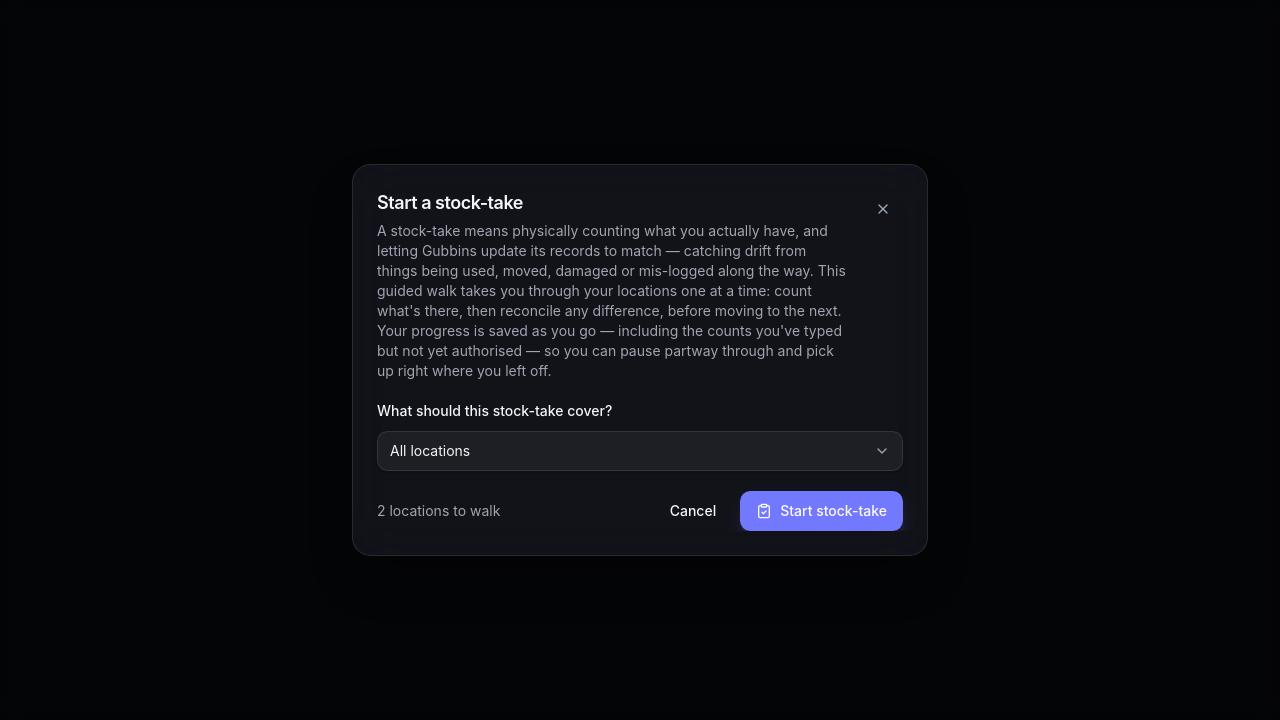
Test: AuditDayDialog — guided walk › walks every location, reconciling one, and shows a final summary
Note: Start the walk over all (2) locations.
Click the button with test id "audit-start".
click(822, 511)  # box top-left (740, 491), bottom-right (903, 531)
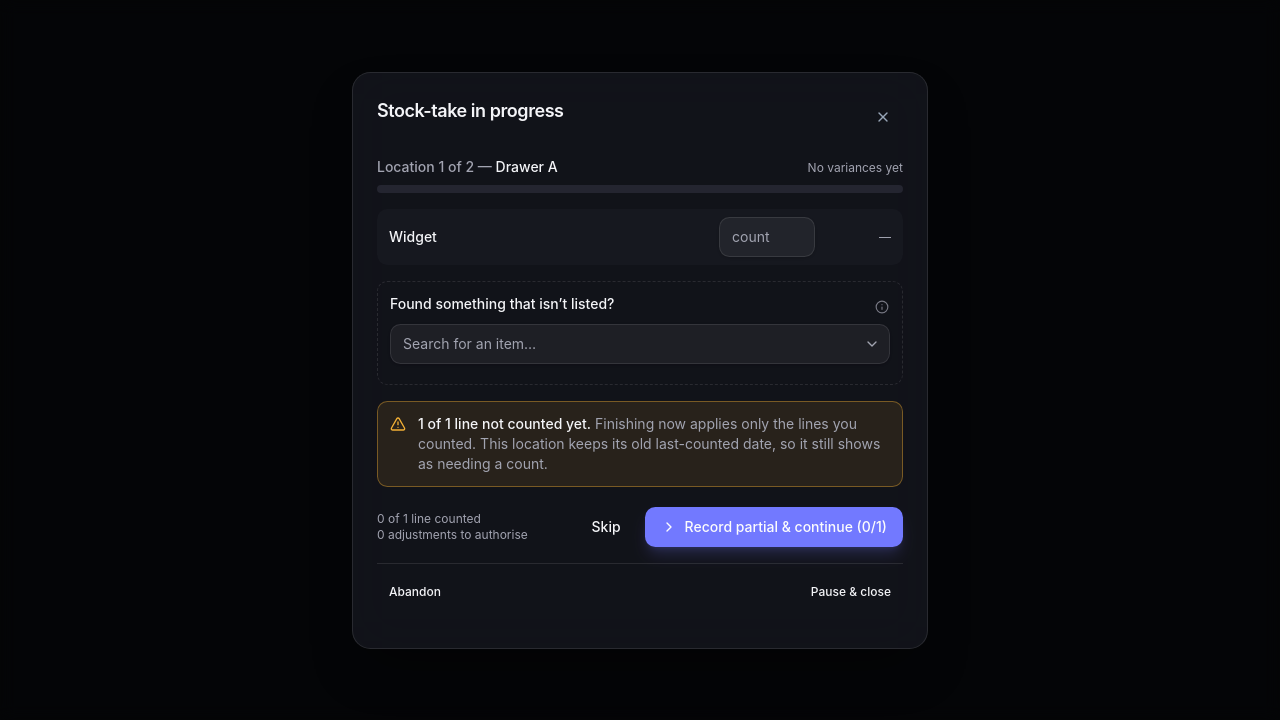
expect the element with test id "audit-step-heading" shows "Drawer A": met, box top-left (496, 158), bottom-right (558, 174)
expect the element with test id "audit-step-heading" shows "Location 1 of 2": met, box top-left (377, 156), bottom-right (558, 176)
Type "8" into the number field with placeholder "count".
click(767, 236); type("8")  # box top-left (719, 216), bottom-right (815, 256)
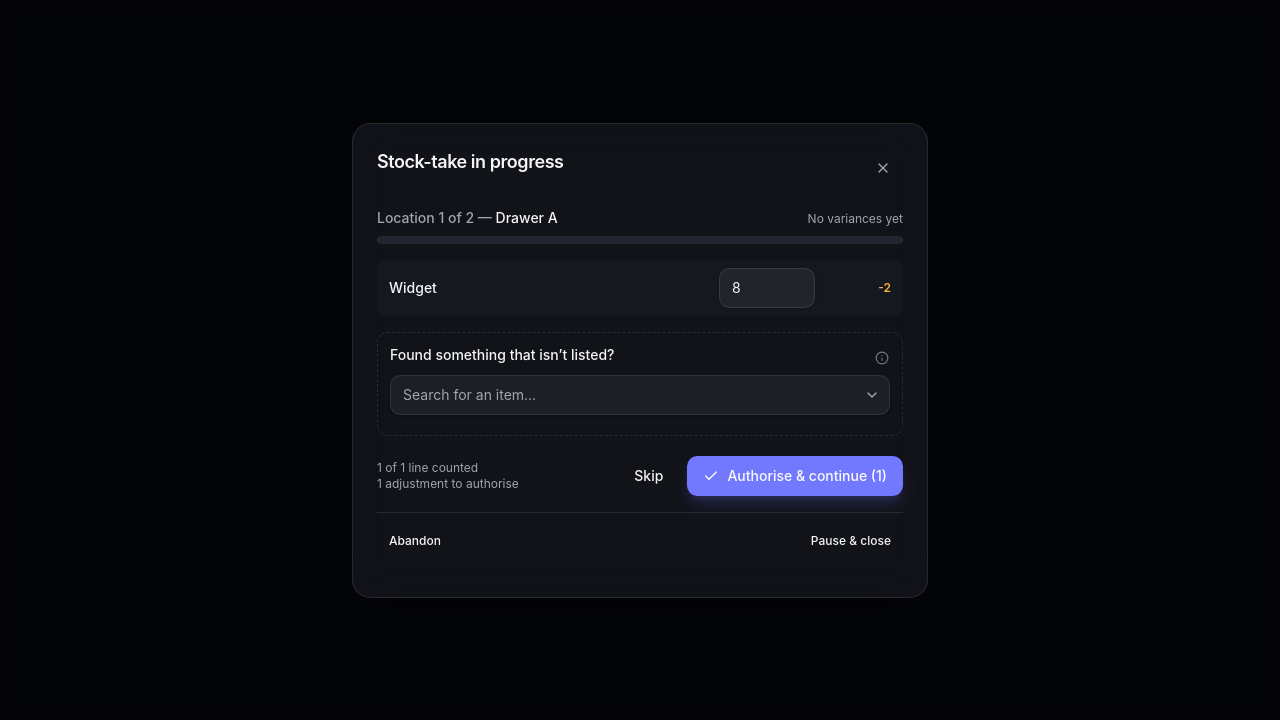
Click the button with test id "audit-authorise-continue".
click(795, 476)  # box top-left (687, 456), bottom-right (903, 496)
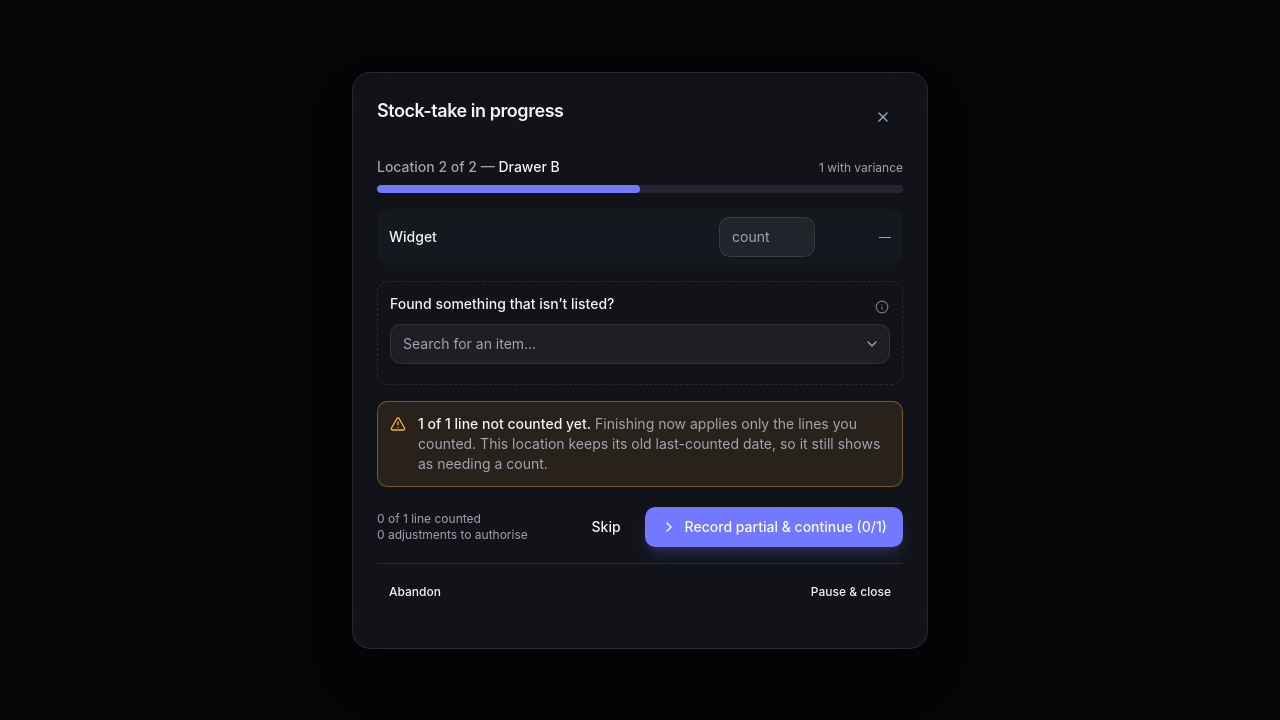
expect the element with test id "audit-step-heading" shows "Drawer B": met, box top-left (498, 158), bottom-right (560, 174)
expect the element with test id "audit-step-heading" shows "Location 2 of 2": met, box top-left (377, 156), bottom-right (560, 176)
expect the text with test id "audit-variance-tally" reads "1 with variance": met, box top-left (819, 160), bottom-right (903, 174)
Type "10" into the number field with placeholder "count".
click(767, 236); type("10")  # box top-left (719, 216), bottom-right (815, 256)
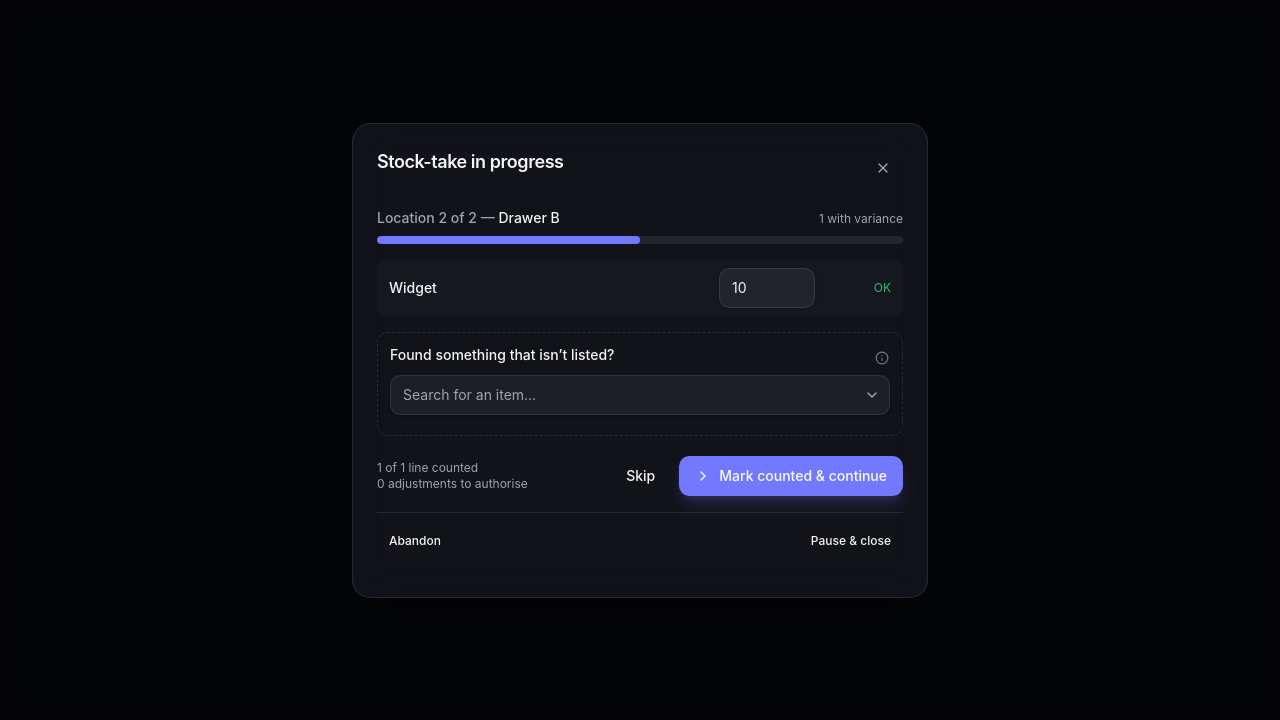
Click the button with test id "audit-continue".
click(791, 476)  # box top-left (679, 456), bottom-right (903, 496)
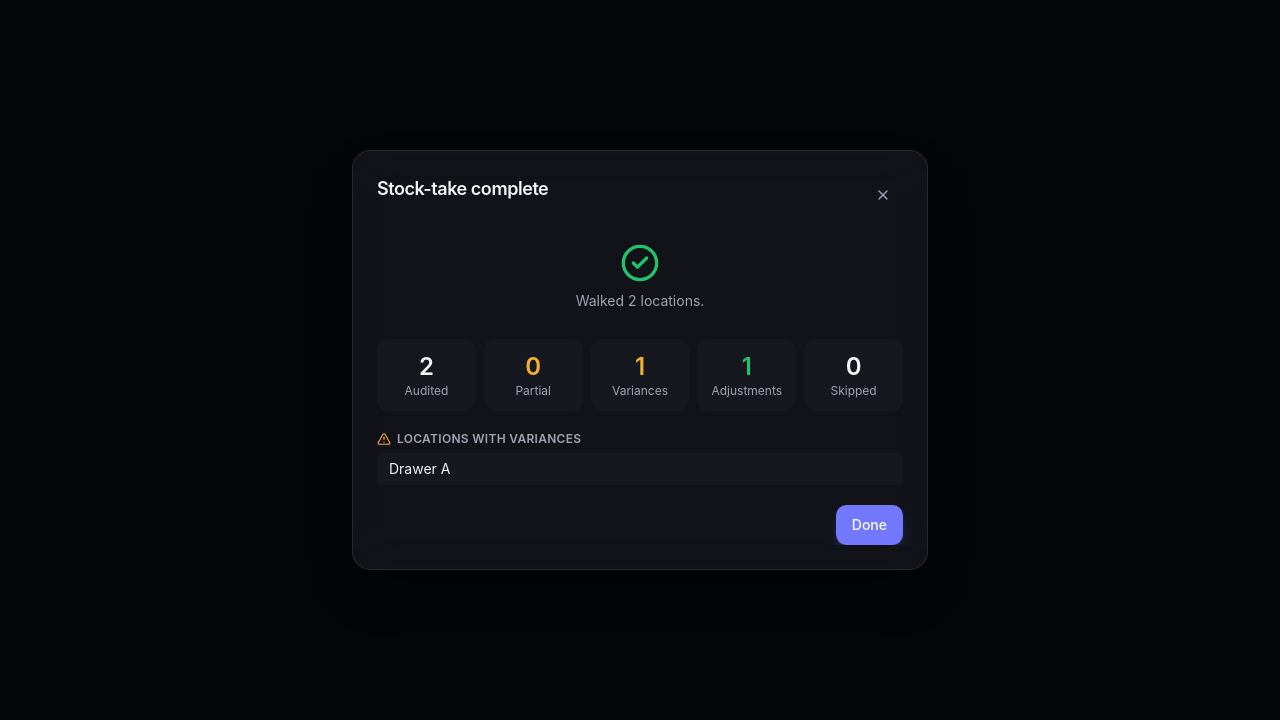
expect the text with test id "audit-stat-audited" reads "2": met, box top-left (419, 352), bottom-right (434, 381)
expect the text with test id "audit-stat-variances" reads "1": met, box top-left (635, 352), bottom-right (645, 381)
expect the element with test id "audit-summary" is shown: met, box top-left (377, 235), bottom-right (903, 545)
